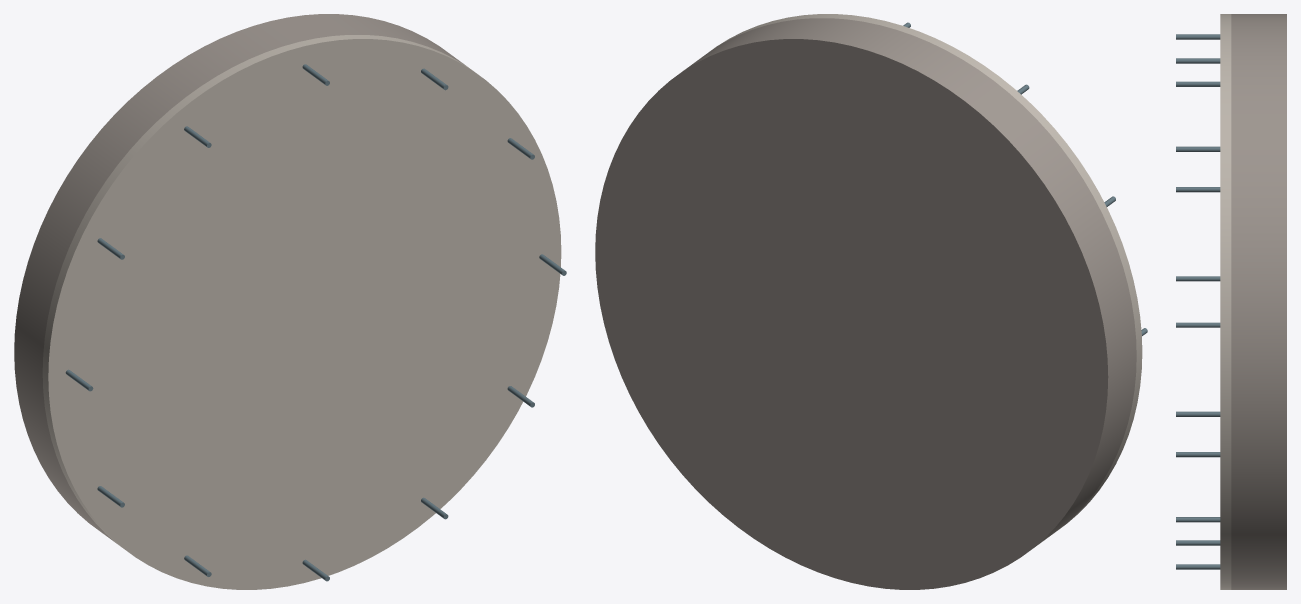
The picture shows the model from 3 angles, left to right: view 1: azimuth 30°, elevation 25°; view 2: azimuth 150°, elevation 25°; view 3: azimuth 270°, elevation 25°; orthographic projection. The views are drawn at different scales.
Visible parts, largest first — view 1: 基础_二次浇筑层, 基础_混凝土; view 2: 基础_混凝土, 基础_二次浇筑层; view 3: 基础_混凝土, 基础_二次浇筑层, 地脚螺栓_M24_04, 地脚螺栓_M24_05, 地脚螺栓_M24_10, 地脚螺栓_M24_11, 地脚螺栓_M24_01, 地脚螺栓_M24_02, 地脚螺栓_M24_03, 地脚螺栓_M24_06, 地脚螺栓_M24_07, 地脚螺栓_M24_08 (+2 smaller).
Part boxes in pixels (x1,y1,x2,y2): 基础_二次浇筑层: [42, 35, 561, 589]; 基础_混凝土: [14, 14, 465, 543]; 基础_混凝土: [595, 18, 1136, 589]; 基础_二次浇筑层: [713, 14, 1142, 526]; 基础_混凝土: [1231, 14, 1286, 589]; 基础_二次浇筑层: [1220, 14, 1231, 589]; 地脚螺栓_M24_04: [1176, 58, 1220, 63]; 地脚螺栓_M24_05: [1176, 34, 1220, 39]; 地脚螺栓_M24_10: [1176, 540, 1220, 545]; 地脚螺栓_M24_11: [1176, 564, 1220, 569]; 地脚螺栓_M24_01: [1176, 411, 1220, 416]; 地脚螺栓_M24_02: [1176, 276, 1220, 281]; 地脚螺栓_M24_03: [1176, 146, 1220, 151]; 地脚螺栓_M24_06: [1176, 81, 1220, 86]; 地脚螺栓_M24_07: [1176, 187, 1220, 192]; 地脚螺栓_M24_08: [1176, 322, 1220, 327].
Size of the model in its own units: 2.6 by 2.6 by 0.5.
